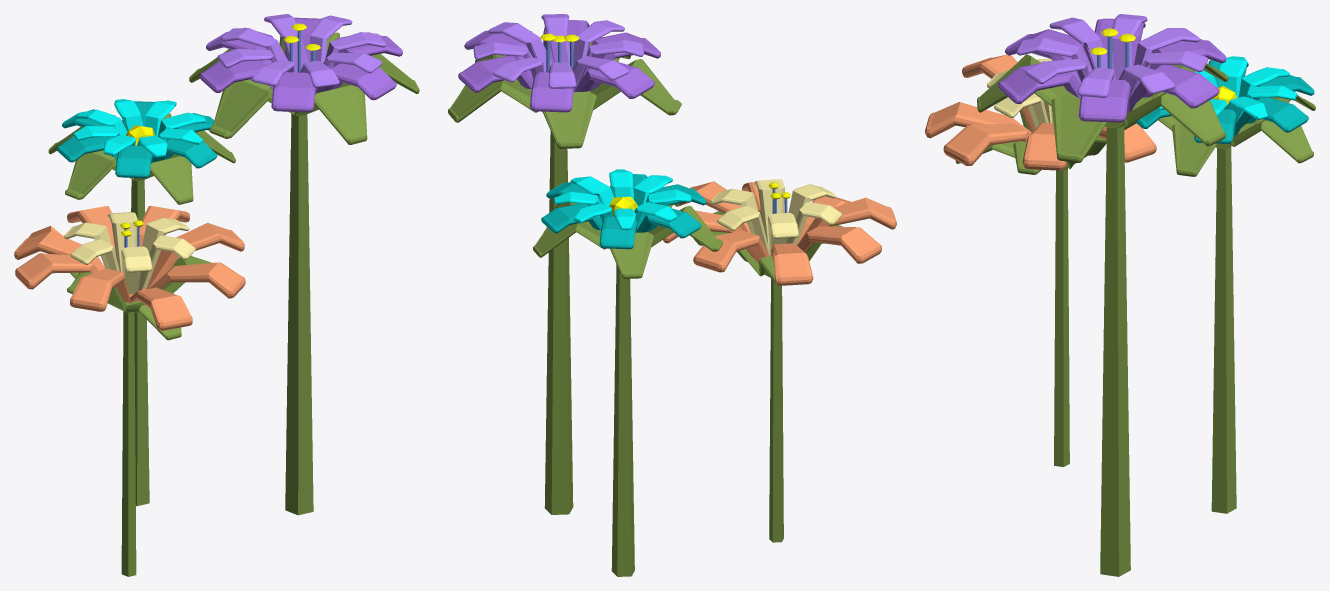
File: flower_05.fbx
3 renders of one model, left to right at view 1: azimuth 30°, elevation 25°; view 2: azimuth 150°, elevation 25°; view 3: azimuth 270°, elevation 25°, orthographic. The views are drawn at different scales.
Parts seen in each view (by area): view 1: Flower_Group_05; view 2: Flower_Group_05; view 3: Flower_Group_05.
Boxes of the visible parts, left/top/right/bottom form: Flower_Group_05: left=14, top=14, right=419, bottom=576; Flower_Group_05: left=448, top=14, right=896, bottom=576; Flower_Group_05: left=925, top=14, right=1315, bottom=576.
Bounding box in the file's own units: 68.55 × 78.82 × 51.97.
